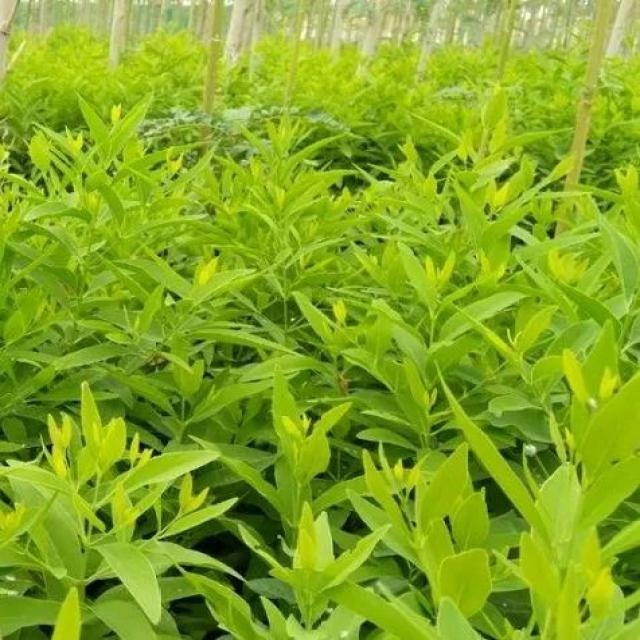Medicinal-Sandalwood: (0, 100, 640, 640)
